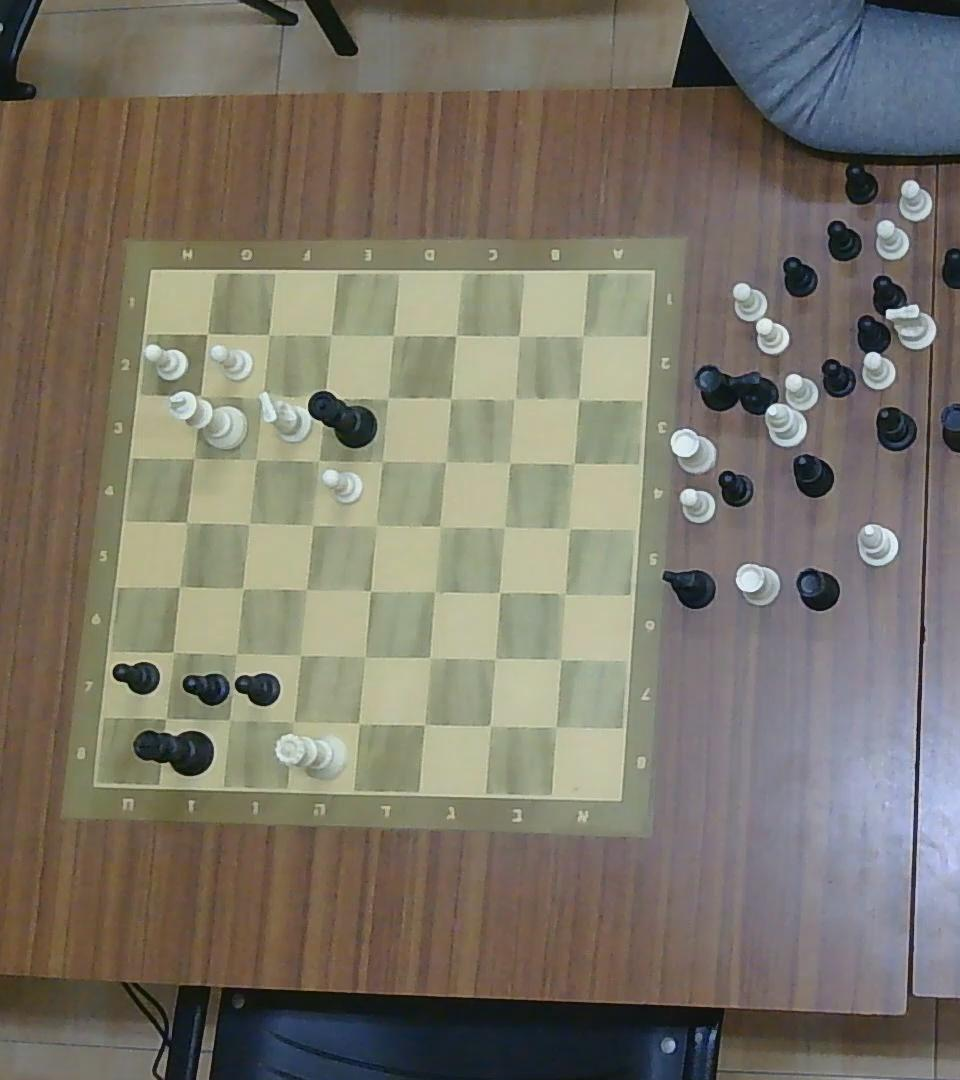xcorner: (477, 712, 503, 738), (246, 383, 272, 409), (542, 714, 569, 739), (412, 711, 437, 736), (482, 647, 506, 671), (347, 710, 371, 734), (418, 644, 442, 668), (281, 710, 305, 733), (353, 644, 376, 668), (154, 706, 178, 728), (288, 643, 311, 665), (319, 324, 341, 346), (218, 709, 240, 731), (439, 388, 461, 408), (372, 449, 392, 471), (549, 648, 571, 668), (188, 386, 210, 406), (366, 514, 386, 535), (423, 581, 443, 602), (183, 447, 203, 467), (429, 516, 449, 536), (225, 644, 245, 664), (499, 452, 519, 472), (445, 325, 465, 345), (559, 518, 579, 538), (383, 325, 403, 345), (247, 448, 266, 469), (435, 450, 454, 471), (296, 578, 315, 599), (302, 514, 321, 534), (378, 388, 397, 408), (361, 580, 380, 600), (489, 582, 508, 602), (555, 584, 575, 603), (177, 511, 196, 531), (170, 577, 189, 597), (315, 386, 334, 406), (240, 513, 259, 532), (198, 324, 217, 343), (259, 324, 278, 343), (164, 643, 183, 662), (495, 516, 513, 536), (309, 450, 327, 470), (564, 453, 583, 471), (573, 326, 591, 345), (233, 579, 251, 598), (511, 326, 528, 345), (505, 389, 523, 406), (572, 390, 588, 406)
